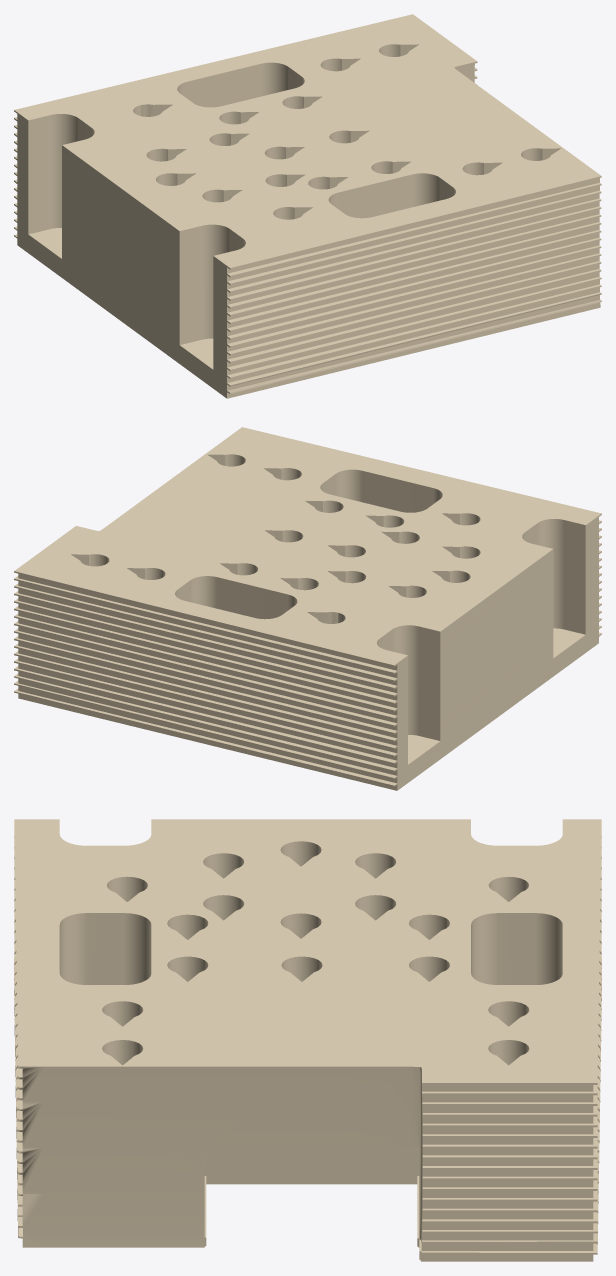
Rendered from heatsink1a_nc.glb.
The picture shows the model from 3 angles, top to bottom: view 1: azimuth 30°, elevation 25°; view 2: azimuth 150°, elevation 25°; view 3: azimuth 270°, elevation 25°; orthographic projection. The views are drawn at different scales.
Visible parts, largest first — view 1: polySurface1; view 2: polySurface1; view 3: polySurface1.
Part boxes in pixels (x1,y1,x2,y2): polySurface1: (14,14,601,398); polySurface1: (14,427,601,790); polySurface1: (14,819,601,1261).
Size of the model in its own units: 0.0939 by 0.0309 by 0.0885.
